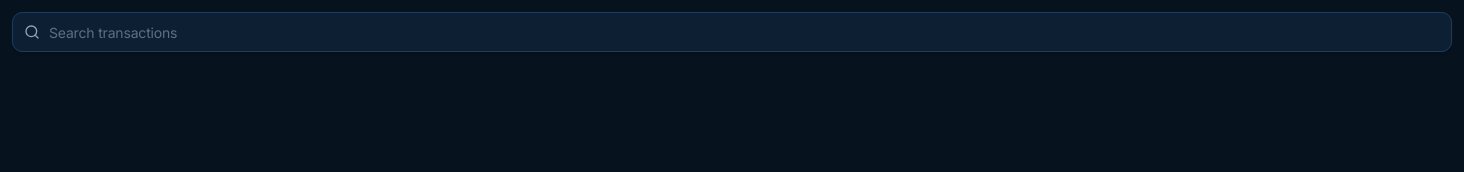
Test: SearchInput › clears the value with the clear button, which then disappears
In the search field labelled "Search transactions": (732, 32) [12,12,1452,52], type "rent"
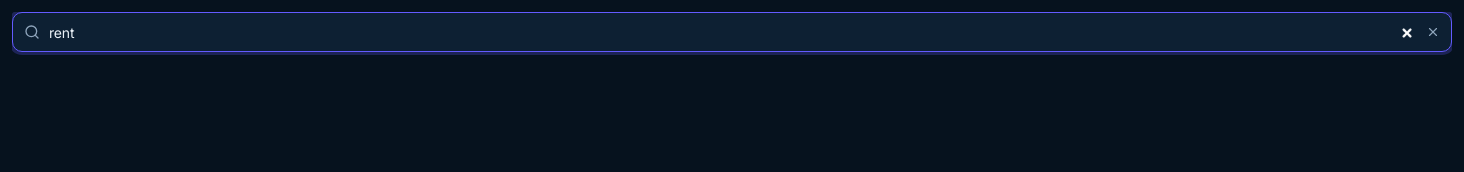
Click the button named "Clear search": click(1433, 32) [1422,21,1444,43]
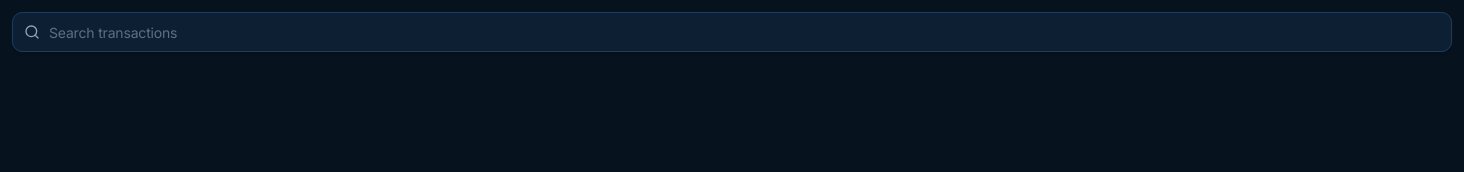
Expected: the search field labelled "Search transactions" is empty, [12,12,1452,52]
